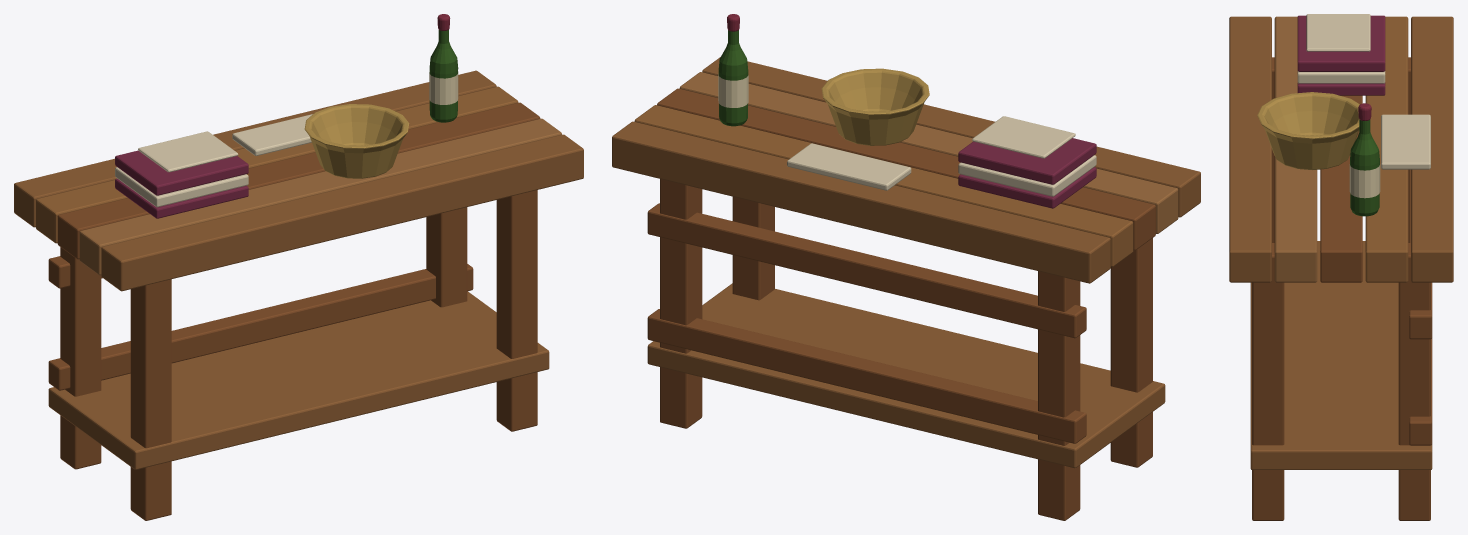
File: winery_workbench.glb
3 views of the same model, side by side, from view 1: azimuth 30°, elevation 25°; view 2: azimuth 150°, elevation 25°; view 3: azimuth 270°, elevation 25° (orthographic). The views are drawn at different scales.
Visible parts, largest first — view 1: winery_workbench; view 2: winery_workbench; view 3: winery_workbench.
Boxes of the visible parts, x1,y1,x2,y2 form: winery_workbench: (14,14,583,520); winery_workbench: (612,14,1200,520); winery_workbench: (1229,14,1453,520).
Size of the model in its own units: 1.9 by 1.49 by 0.765.
